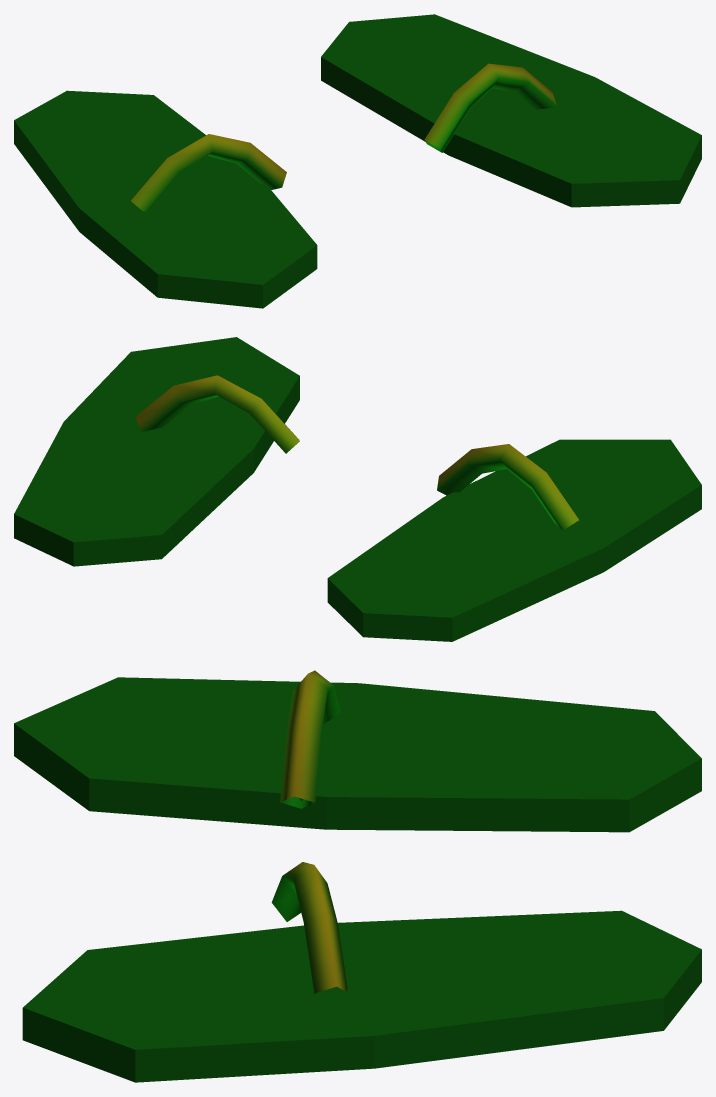
File: sandals.glb
The picture shows the model from 3 angles, top to bottom: view 1: azimuth 30°, elevation 25°; view 2: azimuth 150°, elevation 25°; view 3: azimuth 270°, elevation 25°; orthographic projection. The views are drawn at different scales.
Visible parts, largest first — view 1: sandals; view 2: sandals; view 3: sandals.
Part boxes in pixels (bbox=[...]): sandals: bbox=[14, 14, 701, 308]; sandals: bbox=[14, 337, 701, 641]; sandals: bbox=[14, 670, 701, 1082].
Size of what is drawn, in the model's own units: 0.2926 by 0.0429 by 0.2283.
